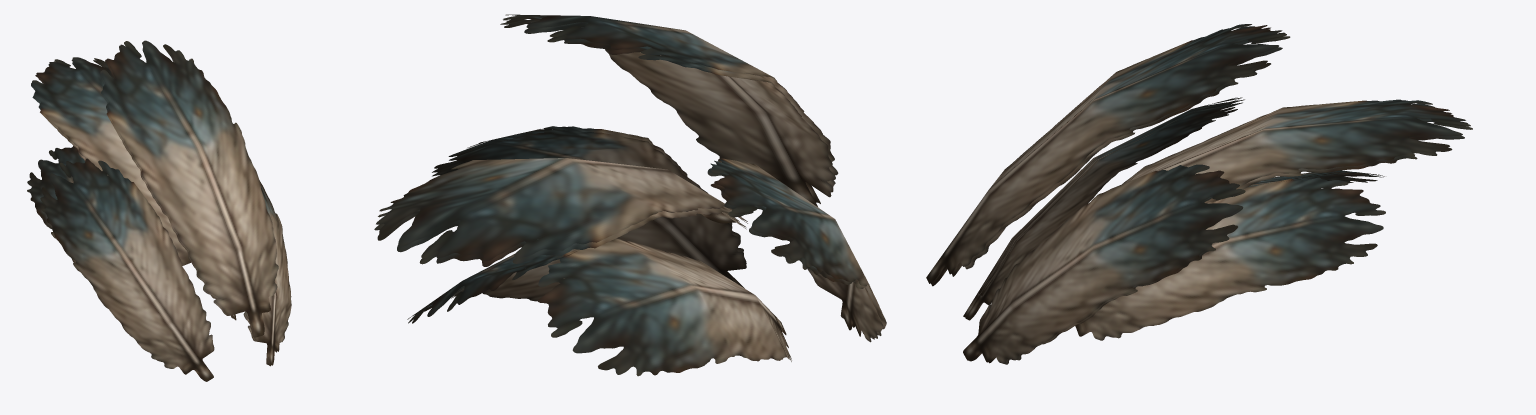
Rendered from viet_feathers_01.dae.
The picture shows the model from 3 angles, left to right: view 1: azimuth 30°, elevation 25°; view 2: azimuth 150°, elevation 25°; view 3: azimuth 270°, elevation 25°; orthographic projection. The views are drawn at different scales.
Parts seen in each view (by area): view 1: Plane_001; view 2: Plane_001; view 3: Plane_001.
Boxes of the visible parts, x1=… form: Plane_001: x1=27, y1=40, x2=291, y2=381; Plane_001: x1=374, y1=14, x2=886, y2=376; Plane_001: x1=926, y1=24, x2=1472, y2=364.
Size of the model in its own units: 0.5042 by 0.8816 by 0.566.
